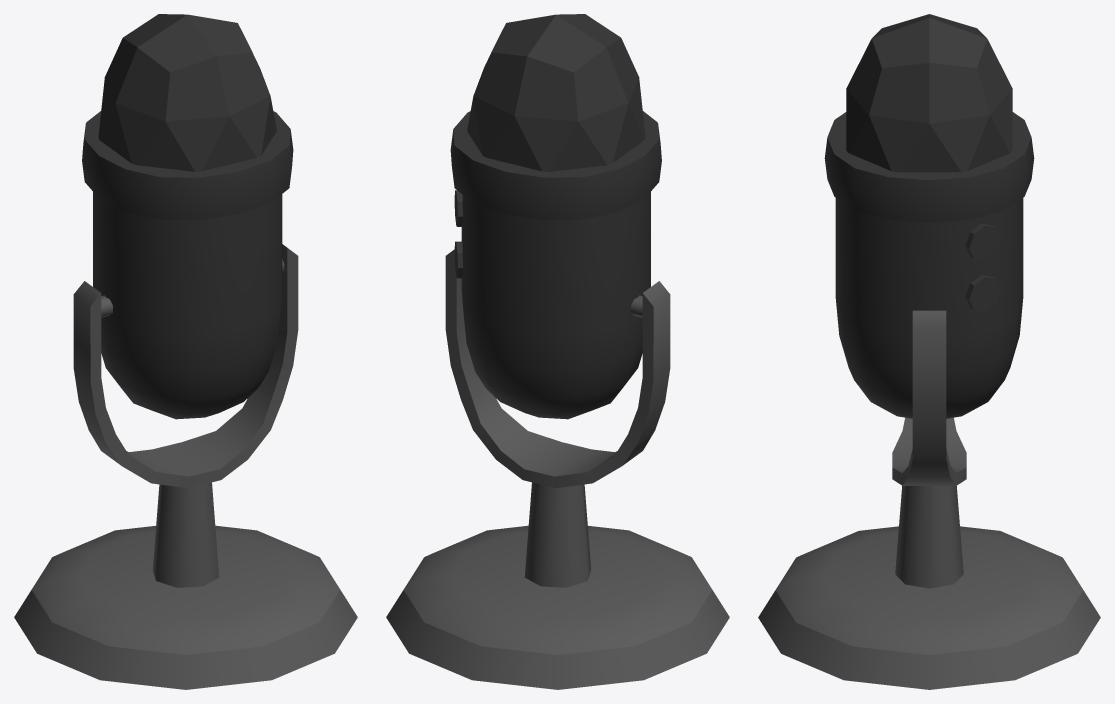
File: micro.glb
3 views of the same model, side by side, from view 1: azimuth 30°, elevation 25°; view 2: azimuth 150°, elevation 25°; view 3: azimuth 270°, elevation 25° (orthographic).
Visible parts, largest first — view 1: Mic Ac, Mic Base; view 2: Mic Ac, Mic Base; view 3: Mic Ac, Mic Base.
Boxes of the visible parts, x1=… form: Mic Ac: x1=82, y1=14, x2=293, y2=419; Mic Base: x1=14, y1=244, x2=357, y2=689; Mic Ac: x1=450, y1=14, x2=661, y2=419; Mic Base: x1=386, y1=249, x2=729, y2=689; Mic Ac: x1=824, y1=14, x2=1034, y2=418; Mic Base: x1=758, y1=310, x2=1100, y2=689.
Bounding box in the file's own units: 0.118 × 0.2282 × 0.118.
2 materials, 2 textured.
